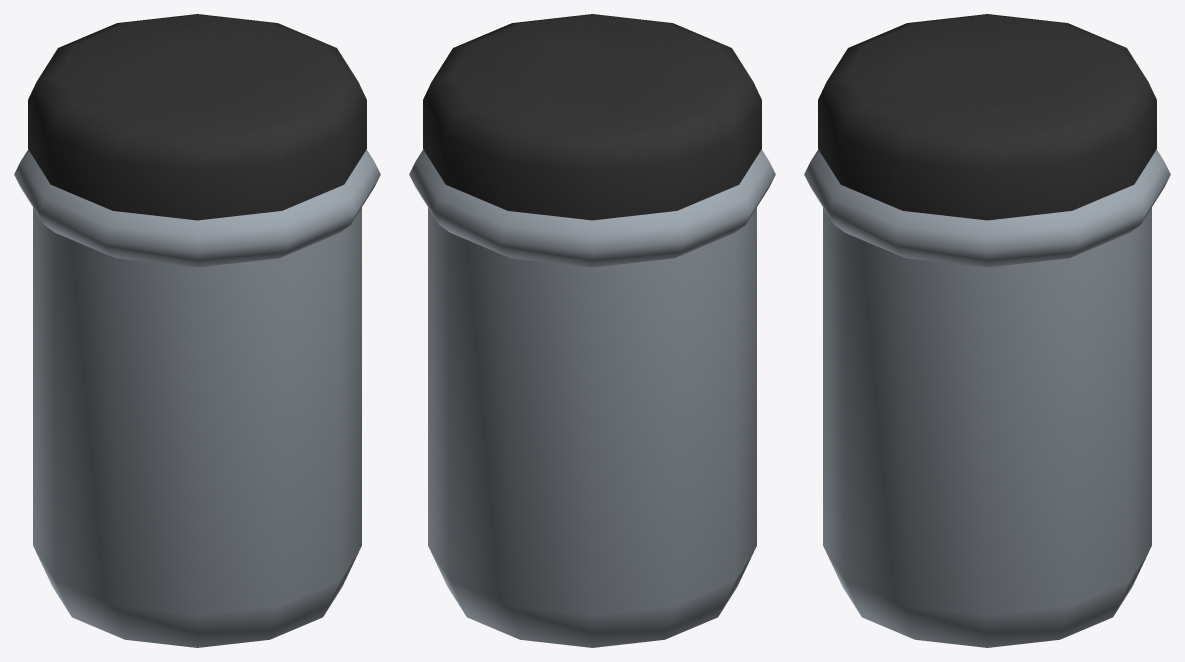
The model's file is Jar.fbx.
The picture shows the model from 3 angles, left to right: view 1: azimuth 30°, elevation 25°; view 2: azimuth 150°, elevation 25°; view 3: azimuth 270°, elevation 25°; orthographic projection.
Parts seen in each view (by area): view 1: Jar; view 2: Jar; view 3: Jar.
Part boxes in pixels (x1,y1,x2,y2): Jar: (14,14,380,647); Jar: (409,14,775,647); Jar: (804,14,1170,647).
Size of the model in its own units: 30.38 by 48.36 by 30.38.
Materials: 1 (1 with a texture image).
